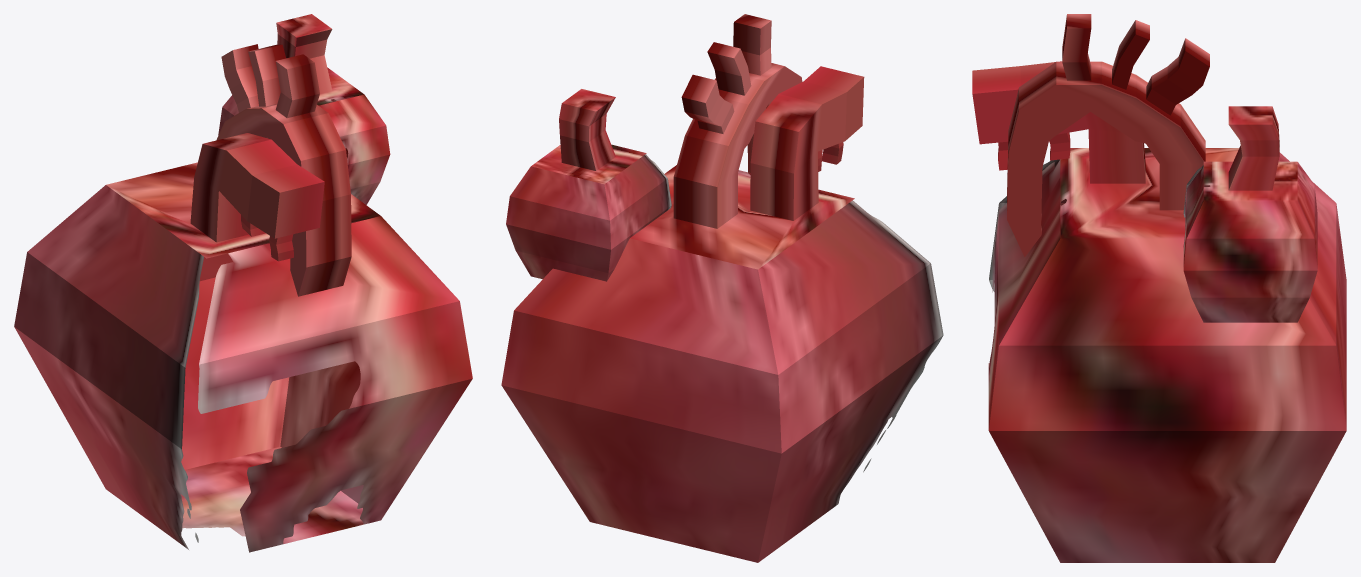
Rendered from heart.fbx.
The picture shows the model from 3 angles, left to right: view 1: azimuth 30°, elevation 25°; view 2: azimuth 150°, elevation 25°; view 3: azimuth 270°, elevation 25°; orthographic projection. The views are drawn at different scales.
Parts seen in each view (by area): view 1: Heart; view 2: Heart; view 3: Heart.
Part boxes in pixels (x1=…): Heart: x1=14, y1=14, x2=472, y2=552; Heart: x1=501, y1=14, x2=943, y2=562; Heart: x1=972, y1=14, x2=1346, y2=562.
Size of the model in its own units: 206 by 309 by 209.
1 material, 1 textured.
